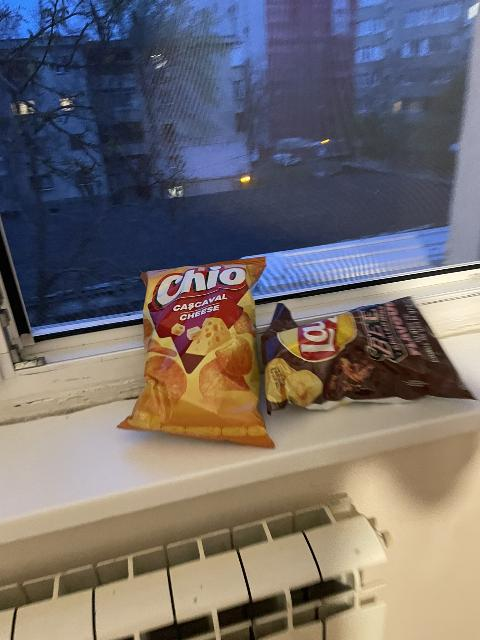Chio Cascaval 125g: (116, 263, 276, 448)
Lays Beef Grilled Ribs 125g: (261, 296, 470, 412)
